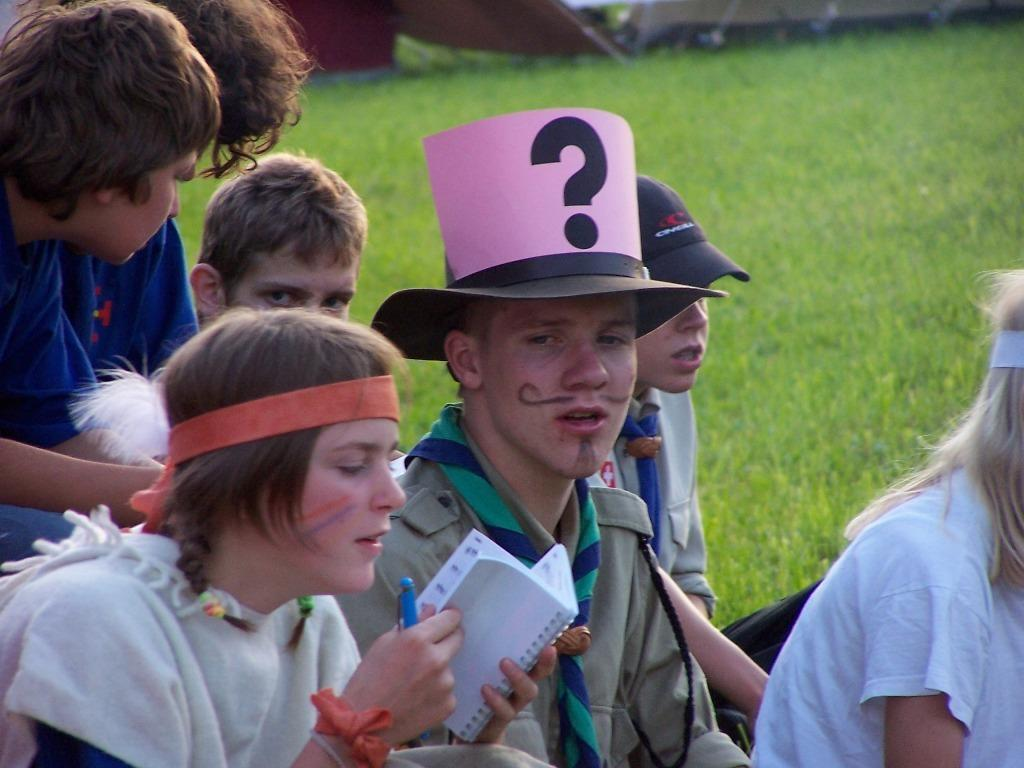Hat: (368, 102, 728, 362), (634, 172, 750, 290)
